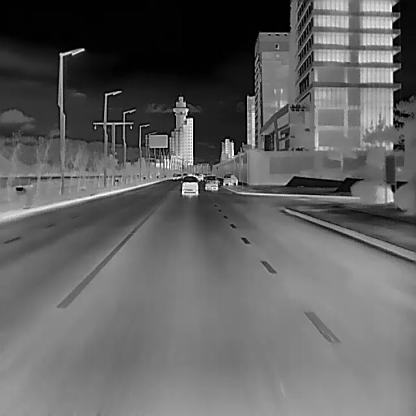car: (181, 175, 198, 196), (222, 172, 237, 186), (204, 175, 218, 189)
